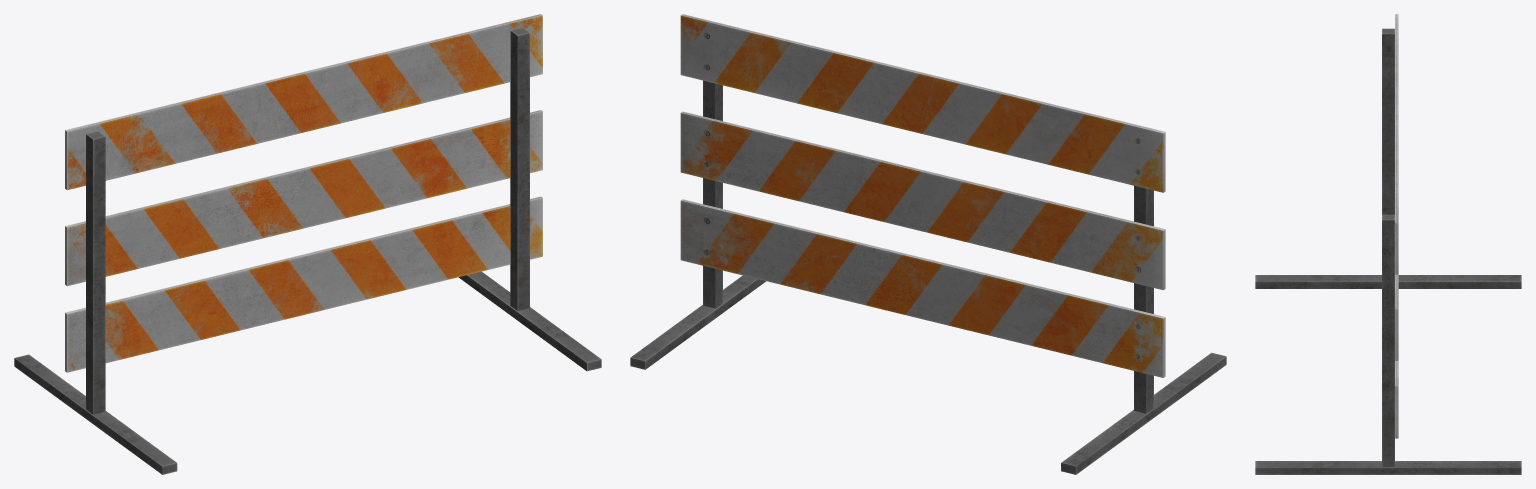
Rendered from Traffic_Barrier_1.glb.
3 views of the same model, side by side, from view 1: azimuth 30°, elevation 25°; view 2: azimuth 150°, elevation 25°; view 3: azimuth 270°, elevation 25° (orthographic). The views are drawn at different scales.
Visible parts, largest first — view 1: Traffic_Barrier_1__LOD2; view 2: Traffic_Barrier_1__LOD2; view 3: Traffic_Barrier_1__LOD2.
Part boxes in pixels (box(x1,y1,x2,y2)): Traffic_Barrier_1__LOD2: box(14, 14, 601, 474); Traffic_Barrier_1__LOD2: box(630, 14, 1226, 474); Traffic_Barrier_1__LOD2: box(1255, 14, 1521, 474).
Bounding box in the file's own units: 1.72 × 1 × 0.9276.
Materials: 1 (1 with a texture image).
